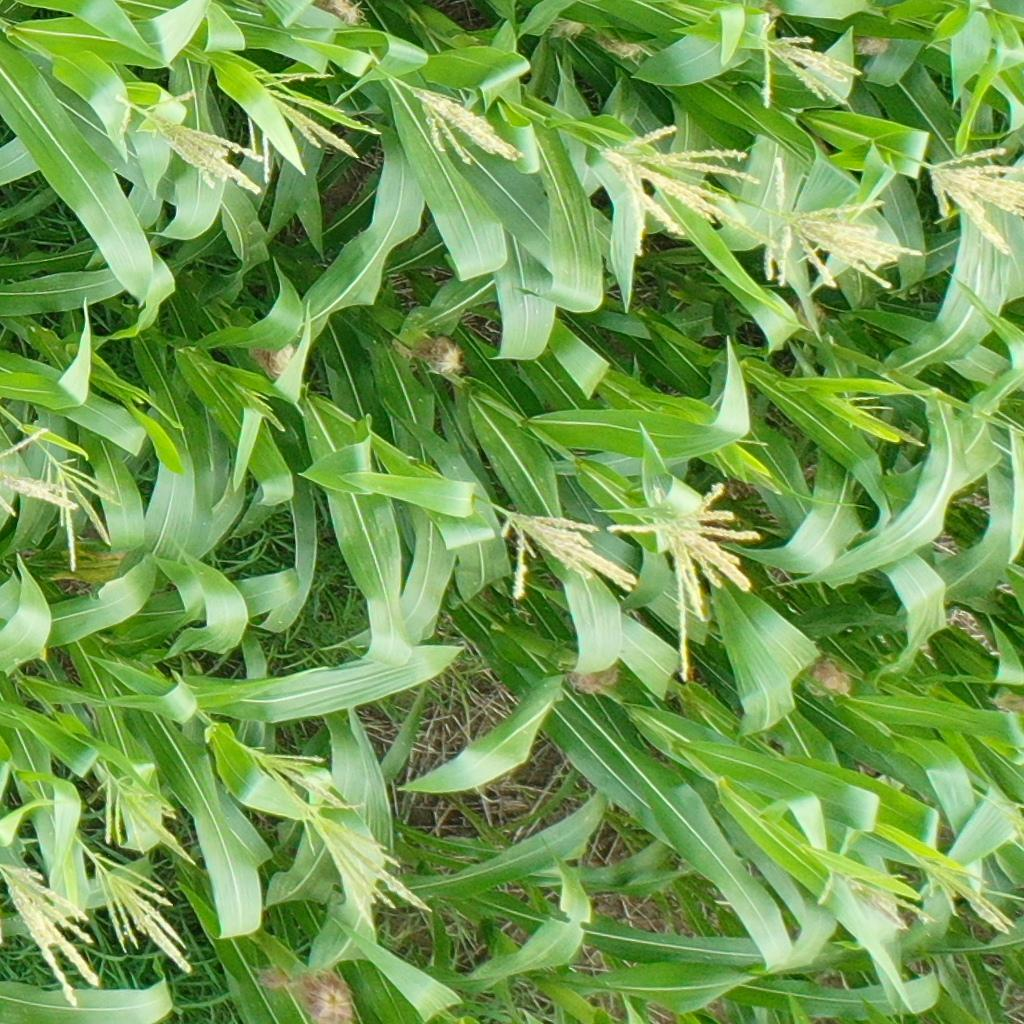Tassel: (604, 477, 761, 685), (593, 123, 762, 256), (765, 157, 927, 293), (107, 81, 264, 197), (296, 804, 433, 932), (1, 858, 102, 1012), (246, 68, 379, 183), (90, 753, 205, 868), (497, 507, 640, 599), (90, 851, 195, 975), (923, 149, 1024, 254), (752, 17, 864, 109), (812, 854, 937, 932), (411, 83, 526, 167), (46, 457, 120, 575), (923, 859, 1023, 936), (242, 743, 352, 810), (1, 429, 80, 516), (841, 389, 927, 446), (237, 384, 290, 433), (981, 5, 1024, 52), (994, 799, 1024, 849)
